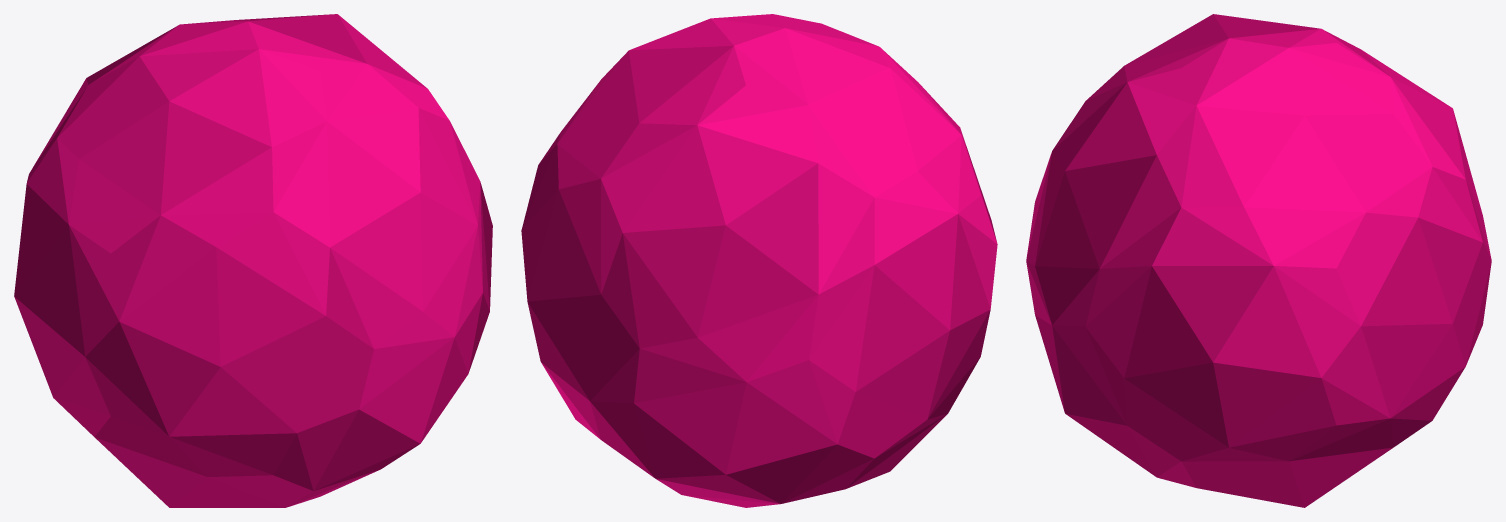
3 renders of one model, left to right at view 1: azimuth 30°, elevation 25°; view 2: azimuth 150°, elevation 25°; view 3: azimuth 270°, elevation 25°, orthographic. The views are drawn at different scales.
Parts seen in each view (by area): view 1: body; view 2: body; view 3: body.
Boxes of the visible parts, left/top/right/bottom form: body: left=14, top=14, right=492, bottom=507; body: left=521, top=14, right=997, bottom=507; body: left=1026, top=14, right=1491, bottom=507.
Bounding box in the file's own units: 0.7435 × 0.7435 × 0.72.
